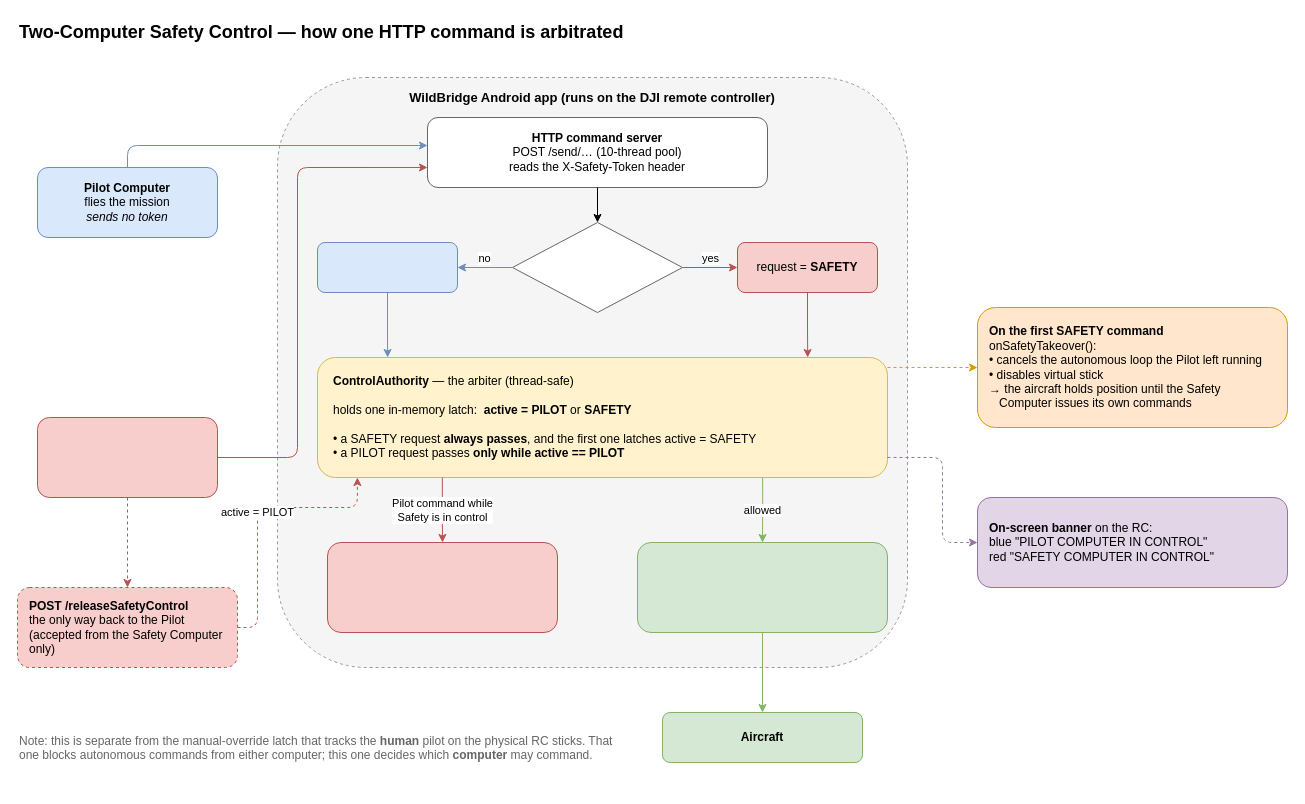
Some shapes in this 1305 by 804 pixel diagram are drawn without their labels. The shapes that lost their labels are listed below. From the top down, each one's centre as x and y in pixels, then its label:
(387,267): request = PILOT
(597,267): token == 98 ?
(127,457): Safety Computer supervises the flight sends X-Safety-Token: 98
(442,587): Rejected "REJECTED: Safety Computer is in control." aircraft untouched
(762,587): Executed DroneController → virtual stick → DJI MSDK
